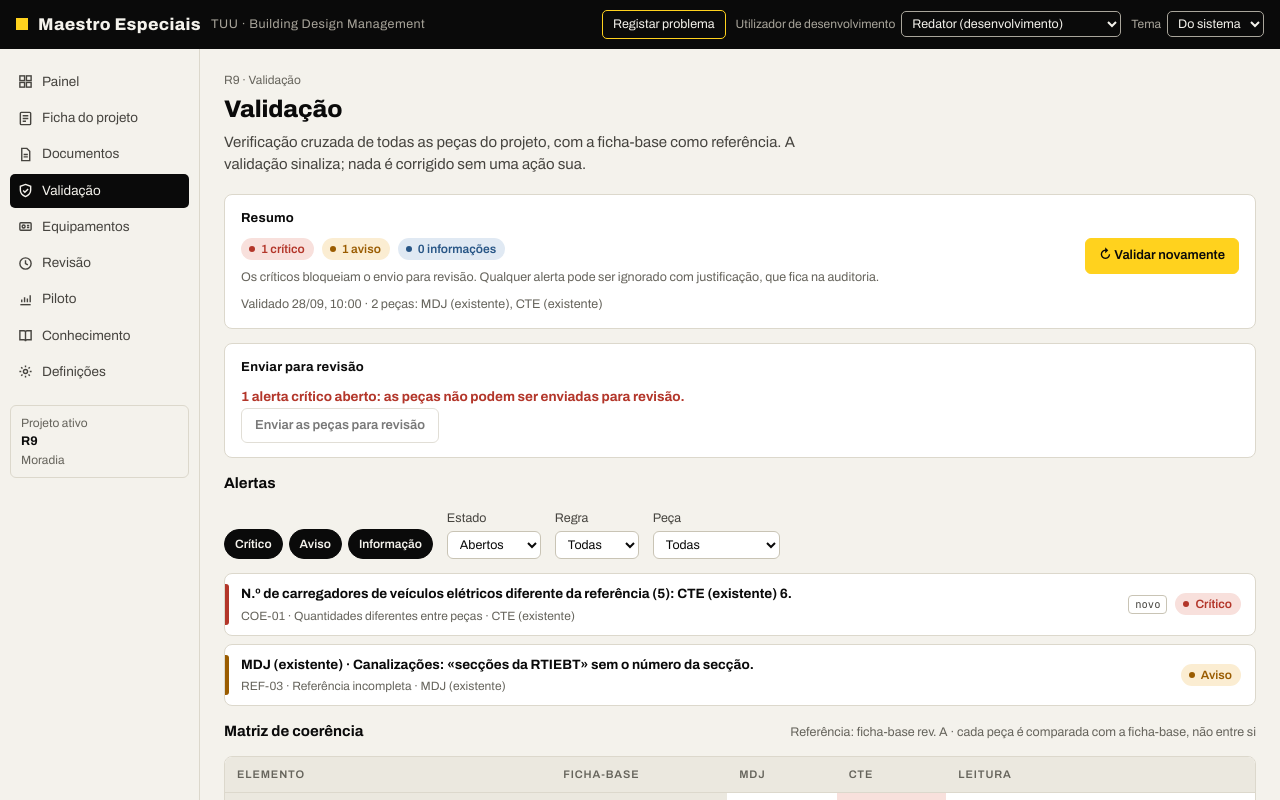
Test: validation (screen E) › shows the issues with their evidence, likely reading and actions
Expected: the number of list items is 2, [224, 573, 1256, 636]; [224, 644, 1256, 706]
Expected: the text "1 crítico" is shown, [241, 238, 314, 260]
Click the text "N.º de carregadores" at (516, 594), box [241, 586, 792, 601]
(page scrolled)
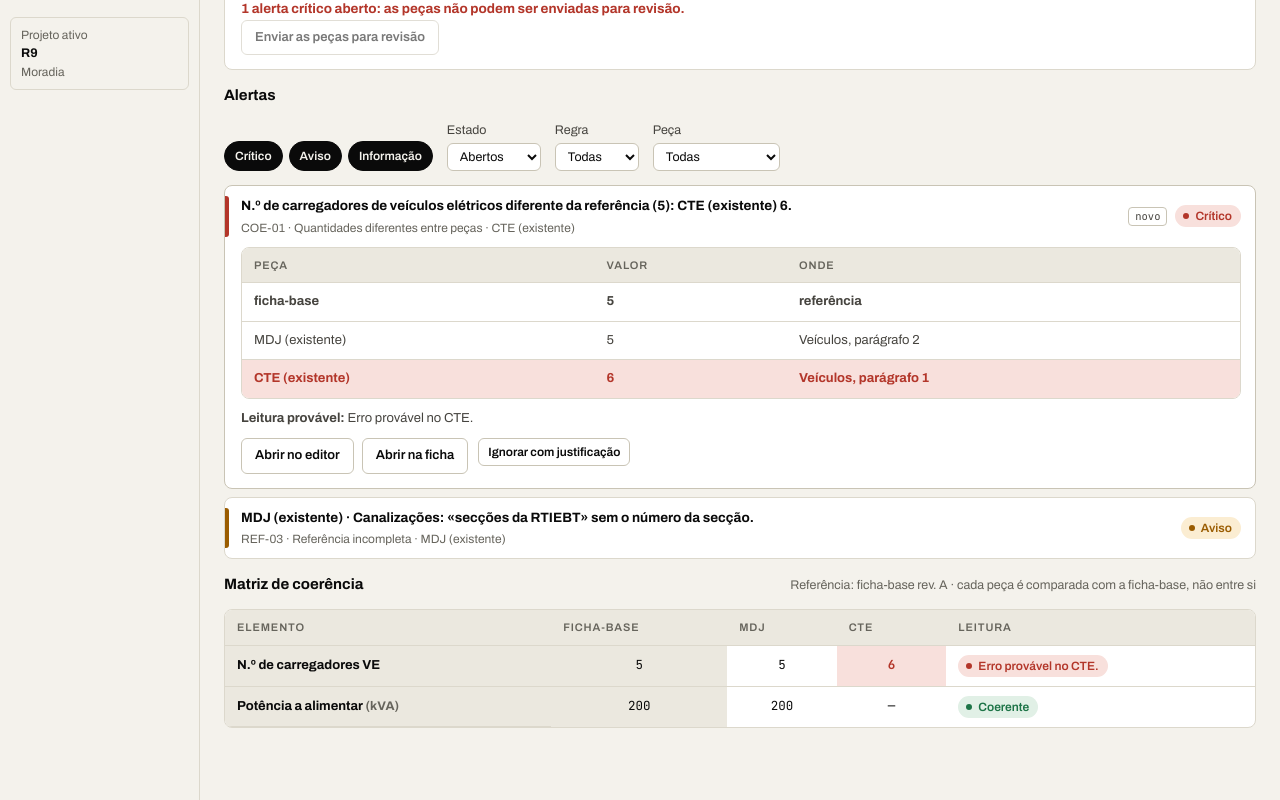
Result: the text "Erro provável no CTE." is shown at [347, 410, 473, 424]
Result: the text "ficha-base" is shown at [242, 283, 594, 321]
